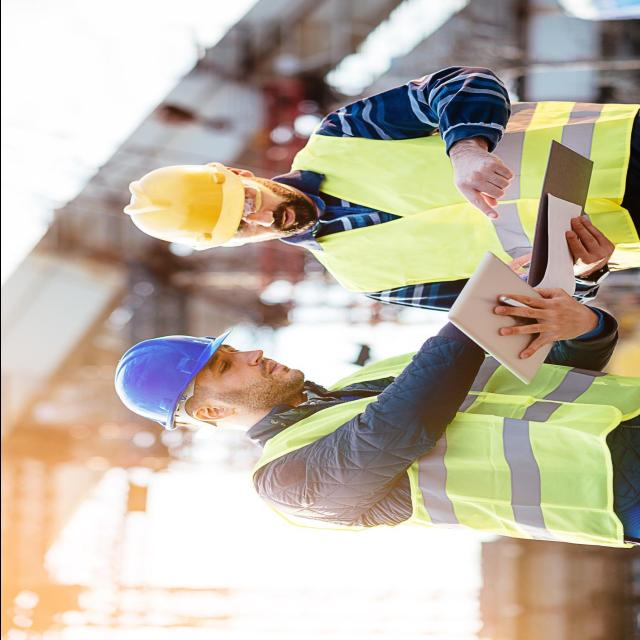helmet: (101, 316, 232, 442), (112, 149, 239, 254)
jacket: (248, 338, 630, 550), (300, 91, 640, 309)
